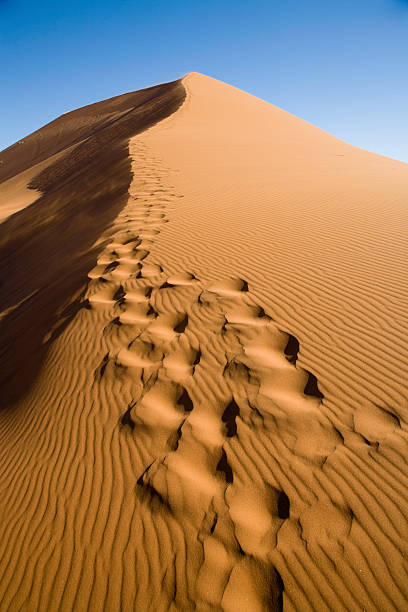human_foot_print: (88, 184, 352, 609)
